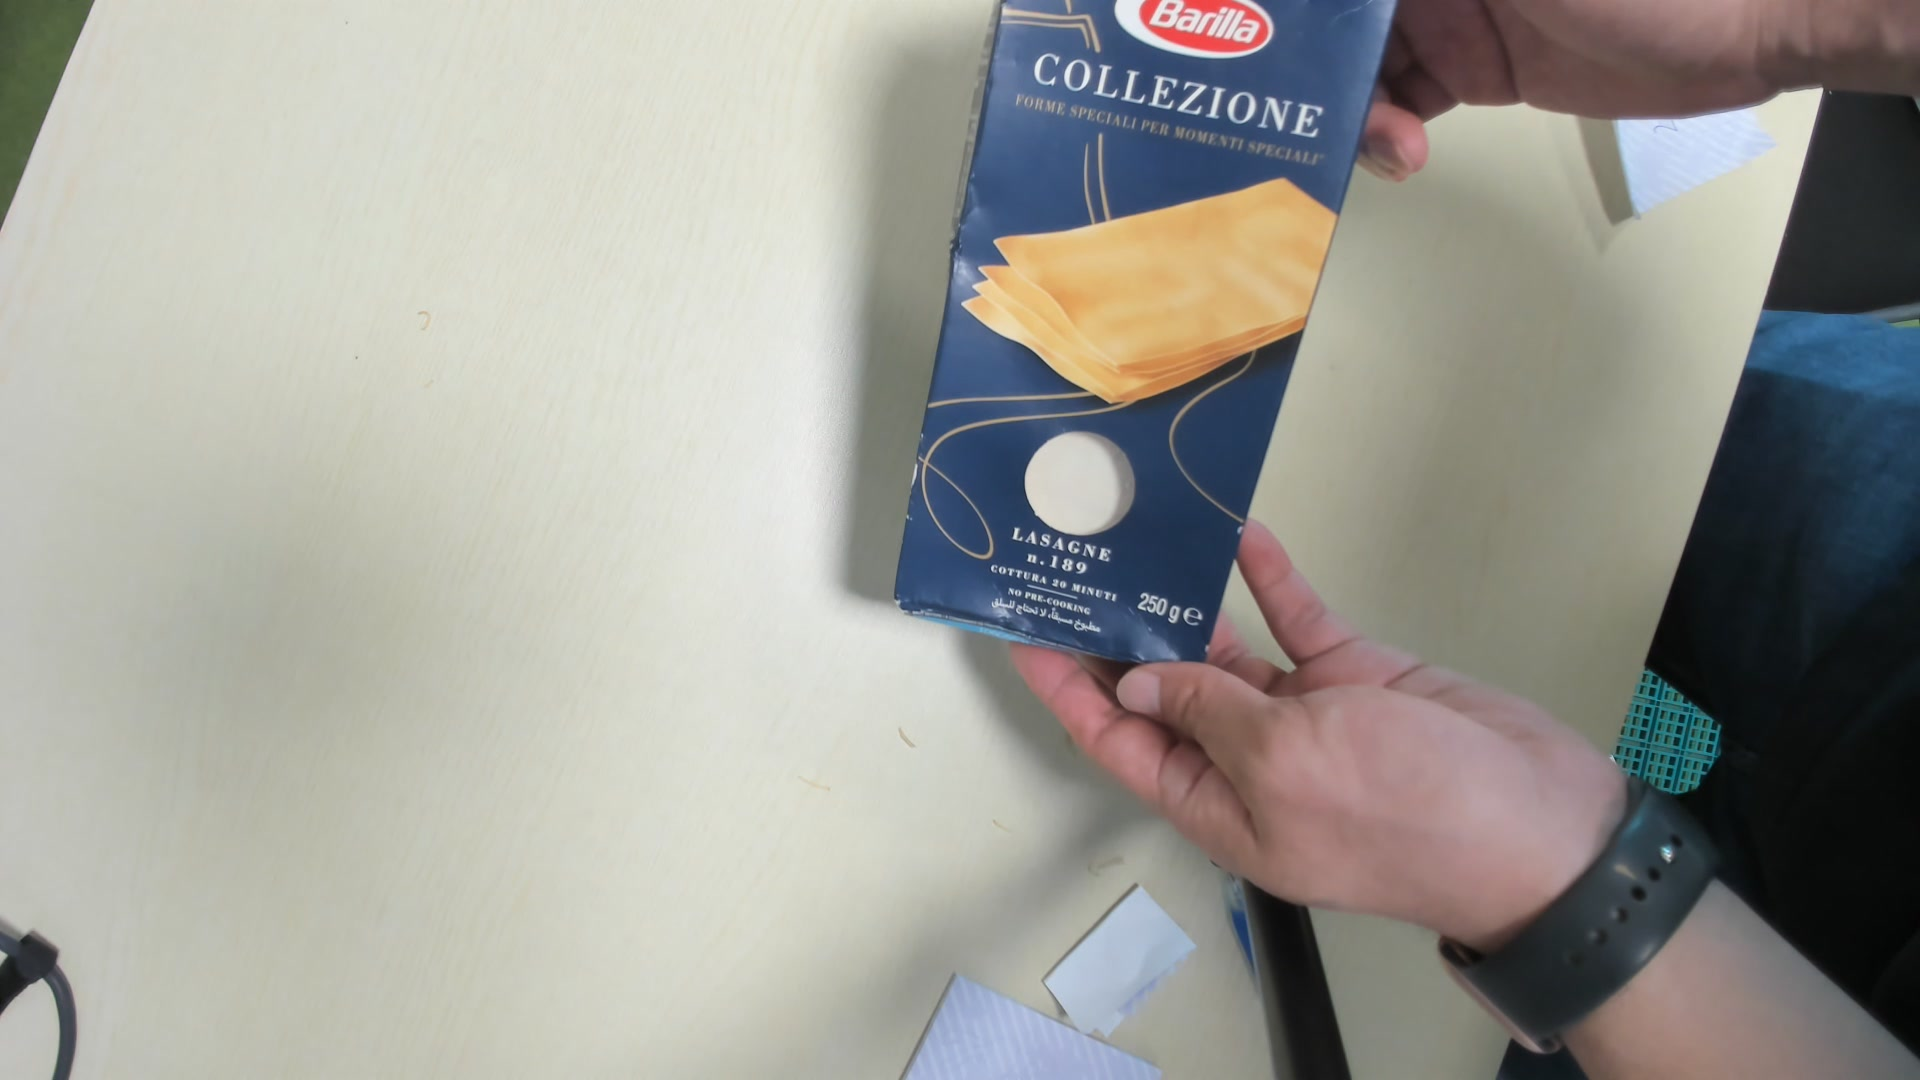InstantMeals_200_299g_NonHalal_NonHealthy: (895, 3, 1390, 665)
